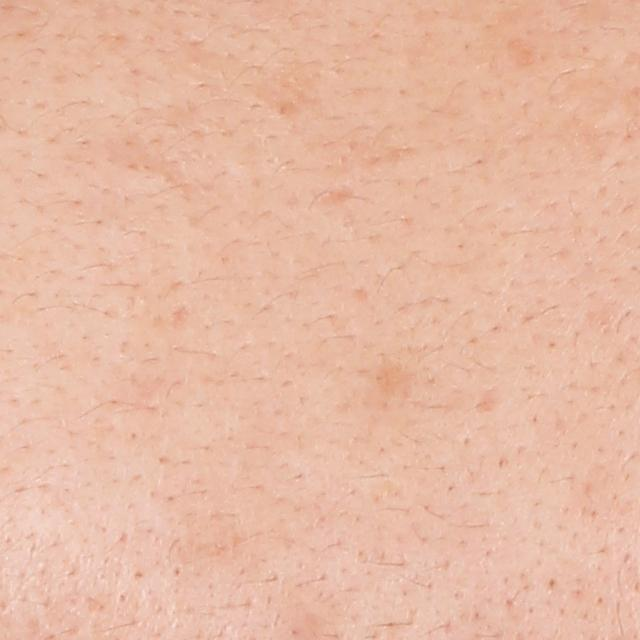atrophic_scar: (107, 133, 187, 187), (466, 379, 502, 420), (315, 185, 358, 210)
